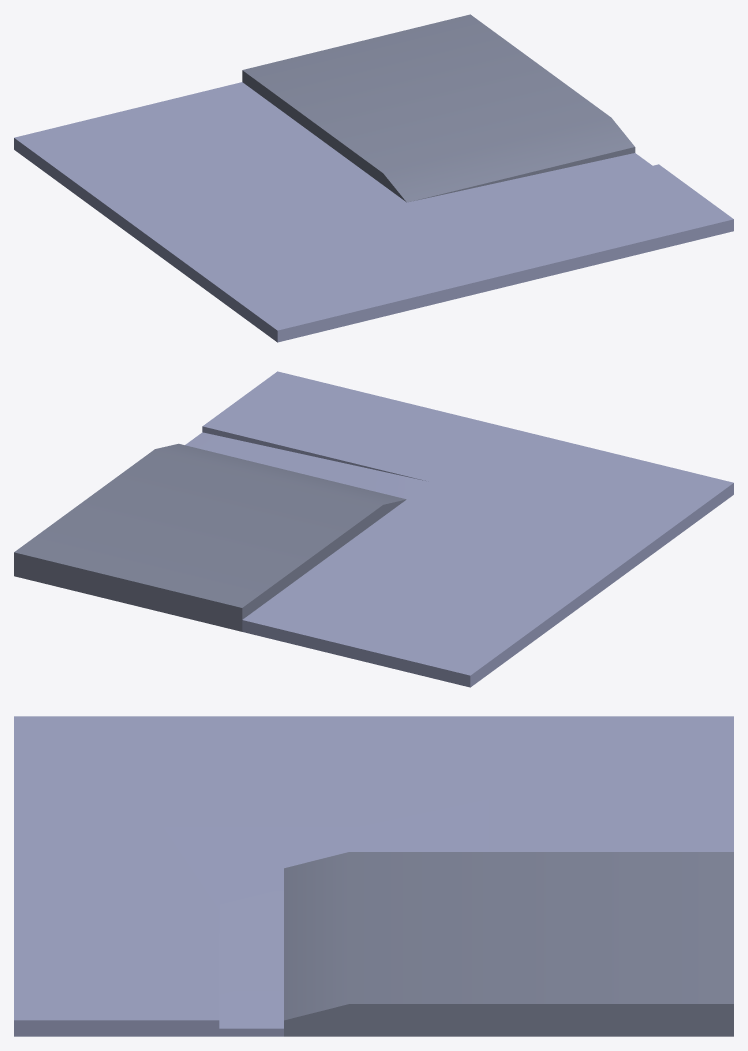
The model's file is kenney-fantasy-town-road-curb-end.glb.
The picture shows the model from 3 angles, top to bottom: view 1: azimuth 30°, elevation 25°; view 2: azimuth 150°, elevation 25°; view 3: azimuth 270°, elevation 25°; orthographic projection. The views are drawn at different scales.
Parts seen in each view (by area): view 1: road-curb-end; view 2: road-curb-end; view 3: road-curb-end.
Part boxes in pixels (x1,y1,x2,y2): road-curb-end: [14, 14, 733, 342]; road-curb-end: [14, 371, 733, 687]; road-curb-end: [14, 716, 733, 1036].
Size of the model in its own units: 1 by 0.0501 by 1.
Materials: 1 (1 with a texture image).
